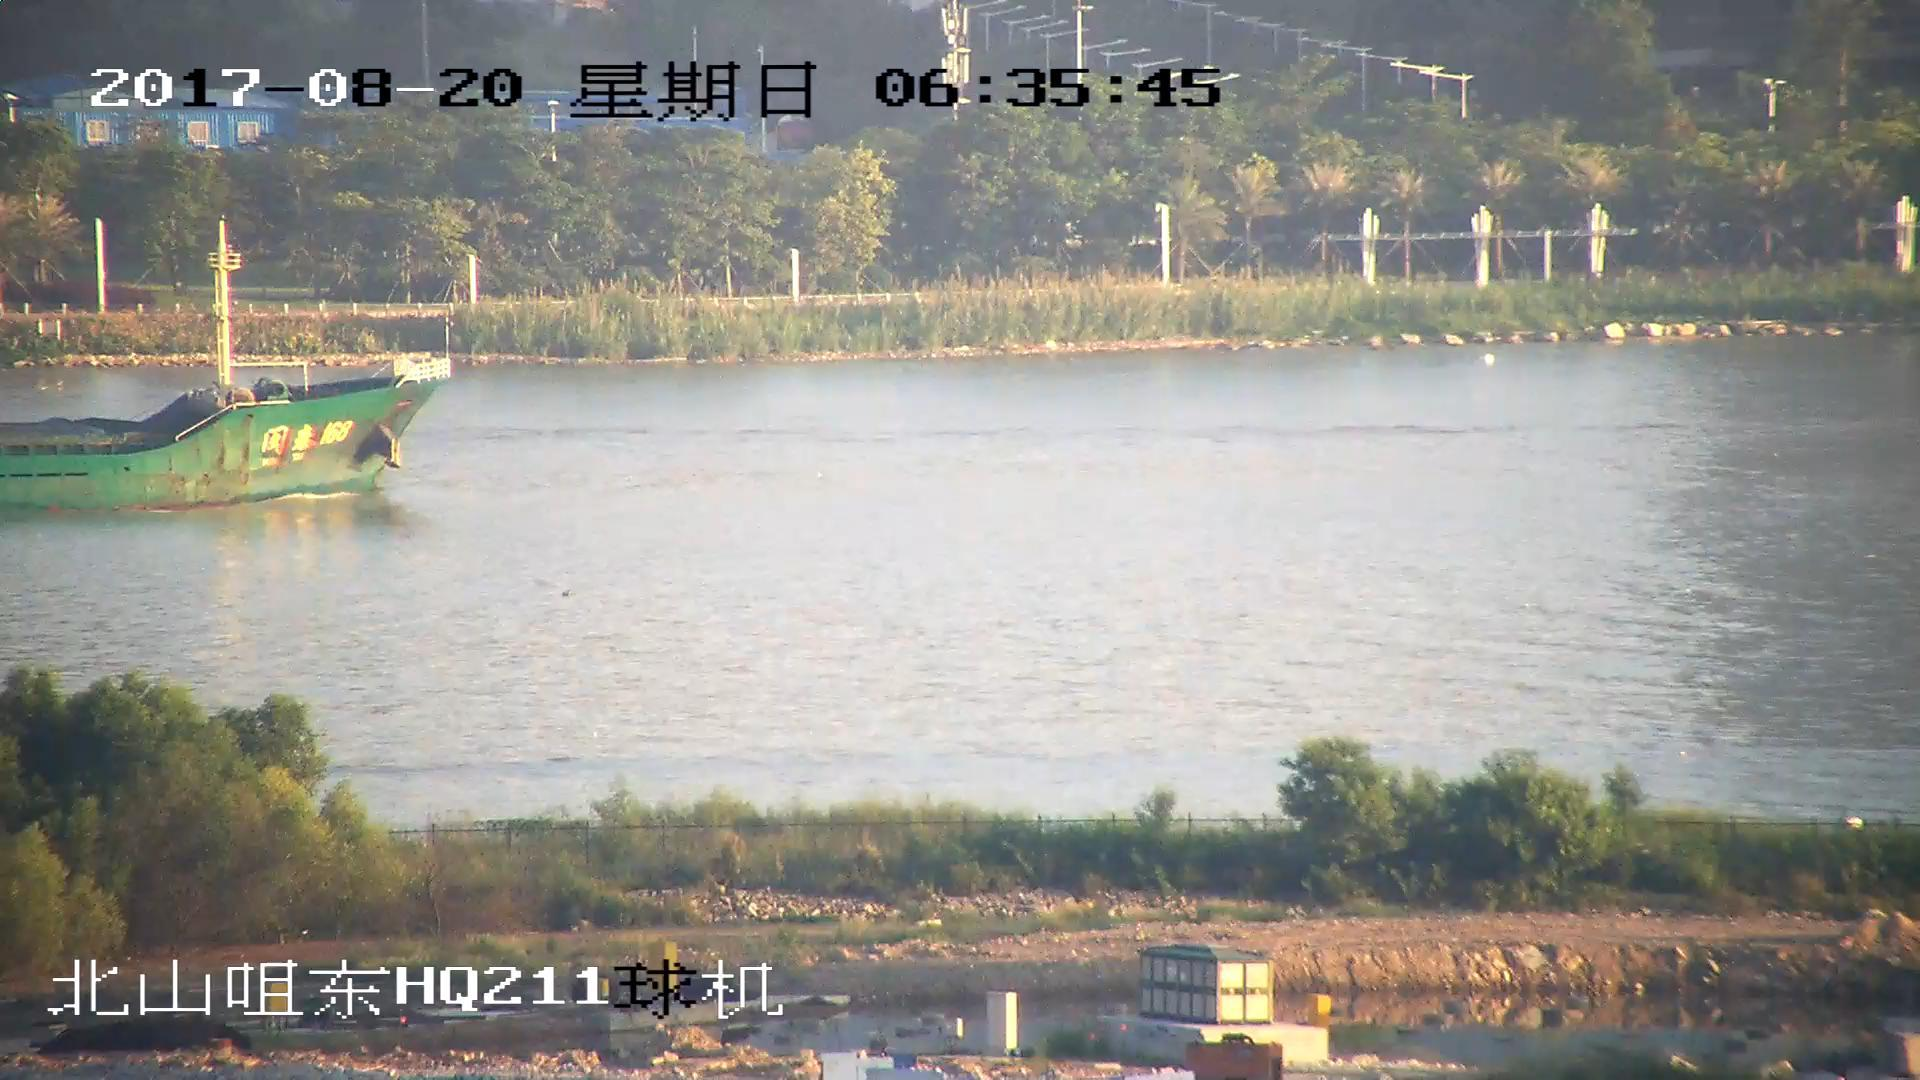Ship: (3, 237, 456, 516)
